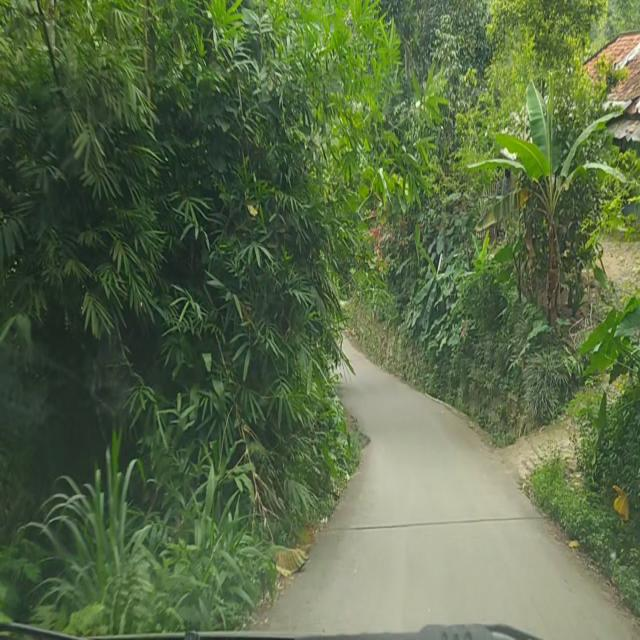Sewer Cover: (331, 511, 538, 535)
